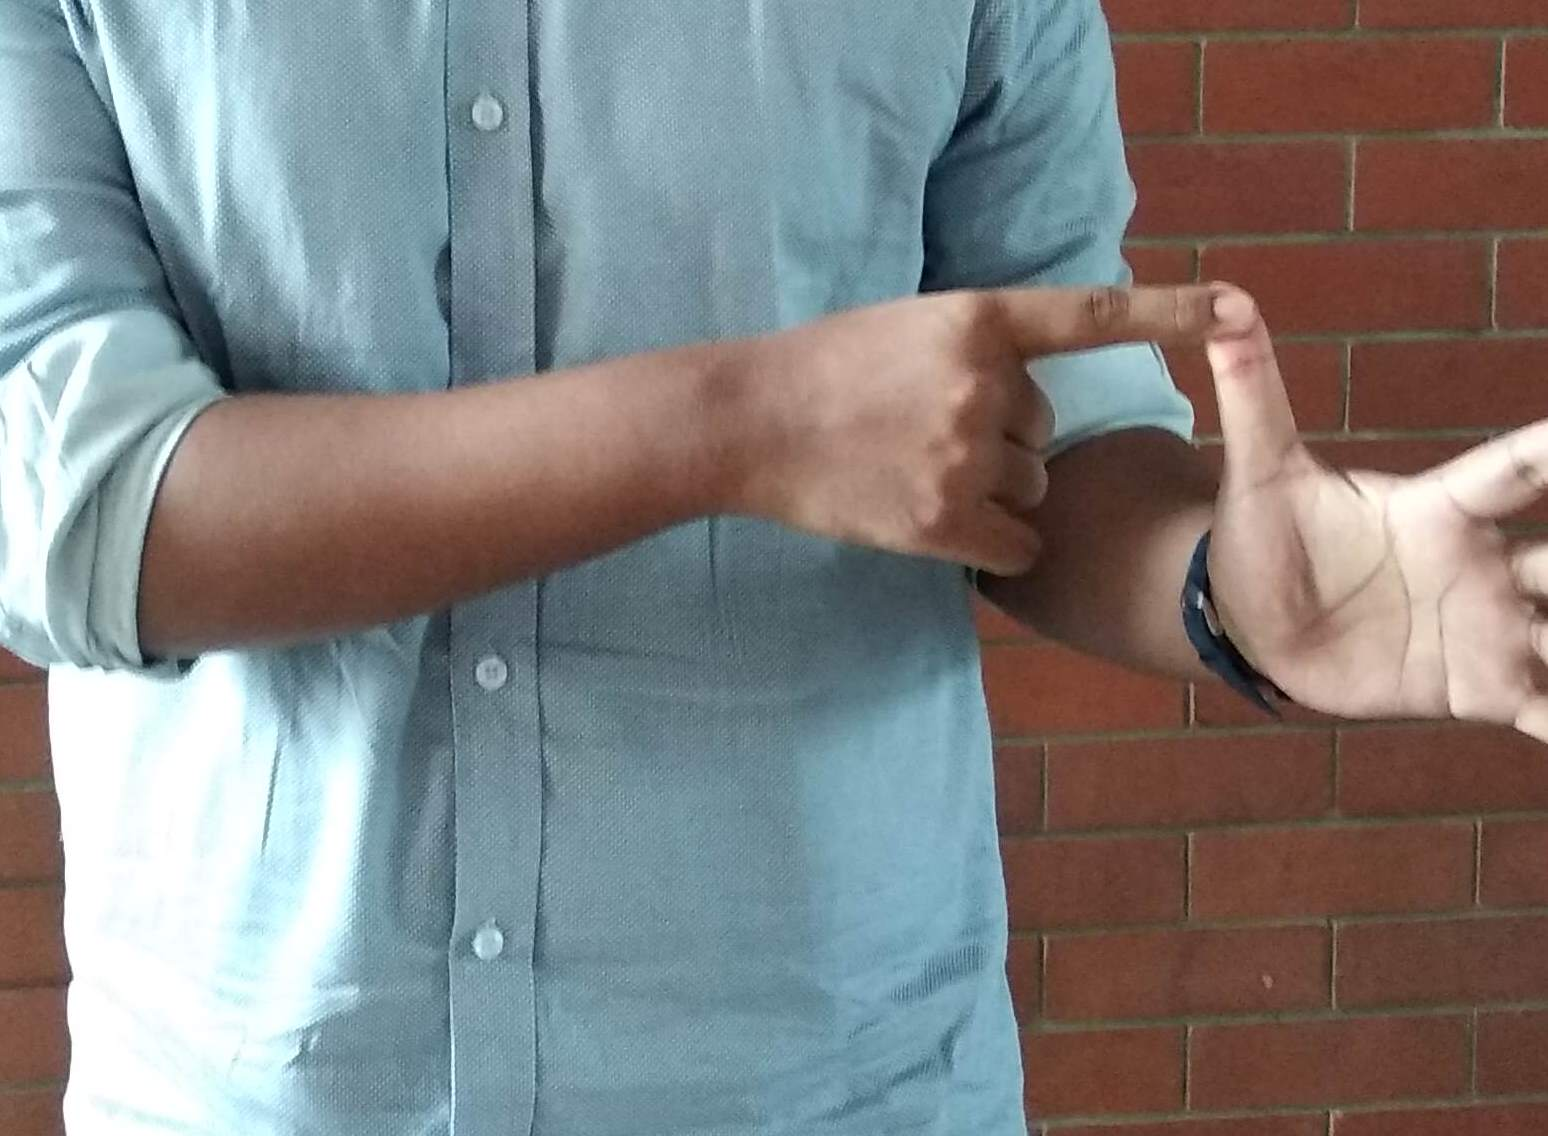a: (852, 258, 1548, 811)
